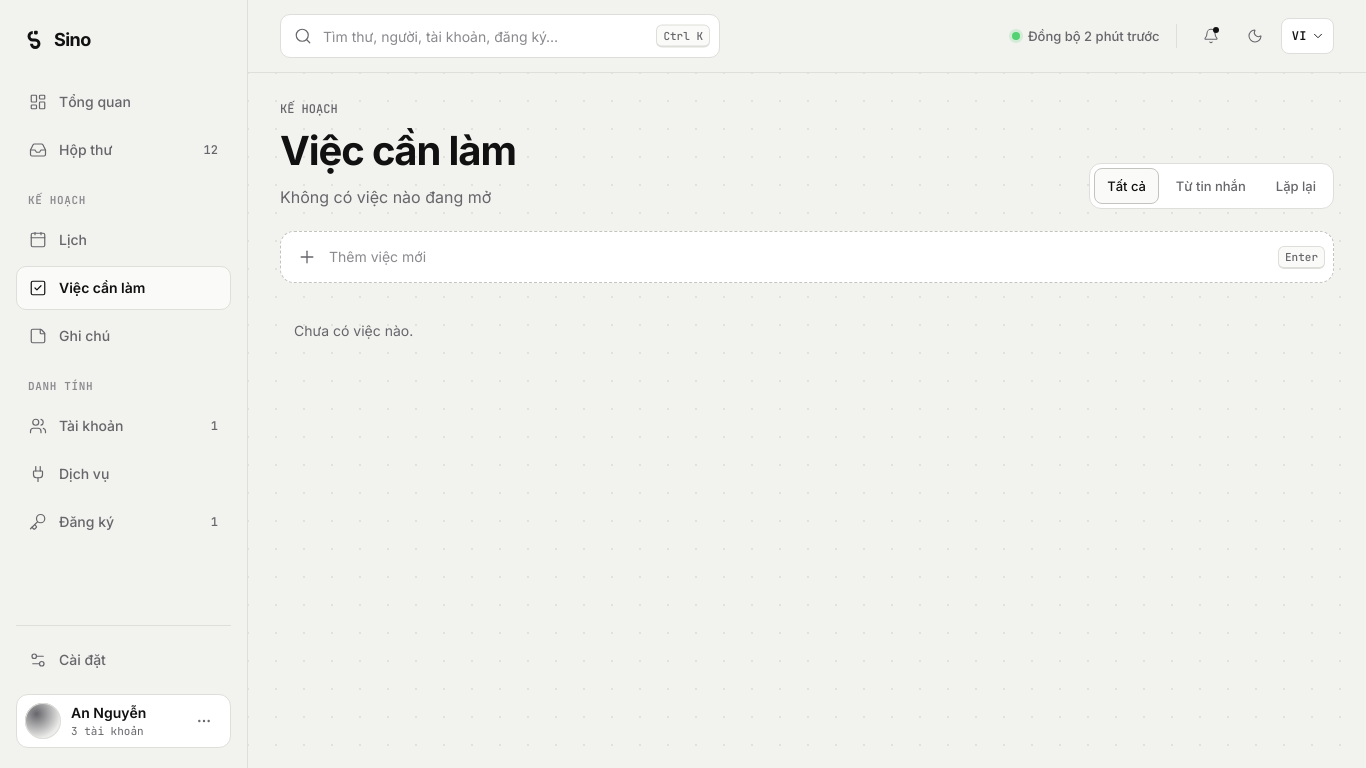
Scenario: states of the Việc cần làm screen › says there is no task yet, and still adds one
Expected: the text "Chưa có việc nào." is shown, [294,322,413,339]
Type "Gọi điện cho thợ sửa máy lạnh" into the field named "Thêm việc mới" at [798, 257], box [329,247,1266,267]
Then press Enter
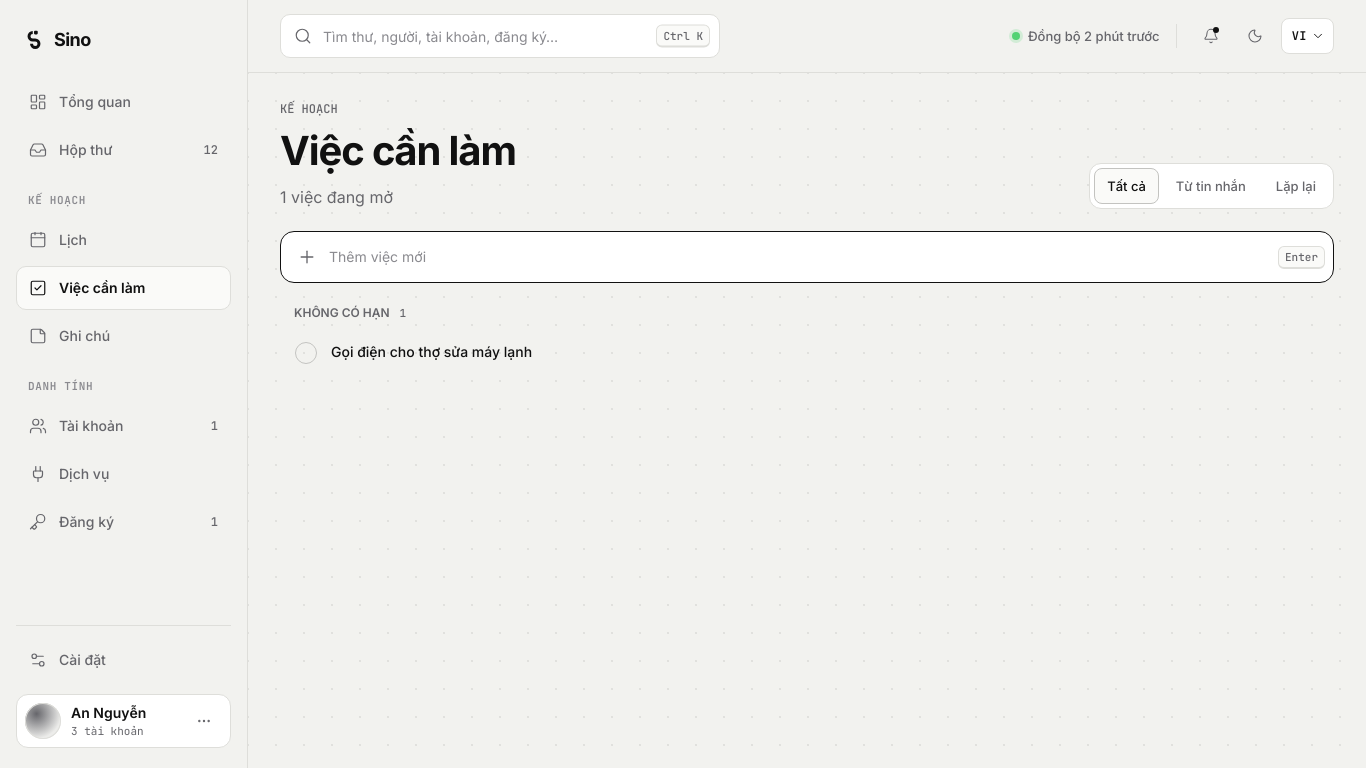
Expected: the text "Chưa có việc nào." is gone
Expected: the element "KHÔNG CÓ HẠN" shows "Gọi điện cho thợ sửa máy lạnh", [331,342,1319,362]
